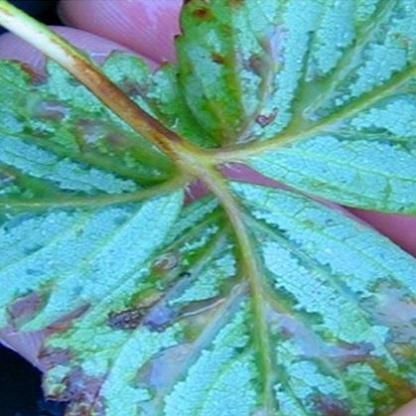Strawberry_Angular_LeafSpot: (36, 178, 415, 415), (0, 46, 218, 374), (174, 0, 416, 215)
